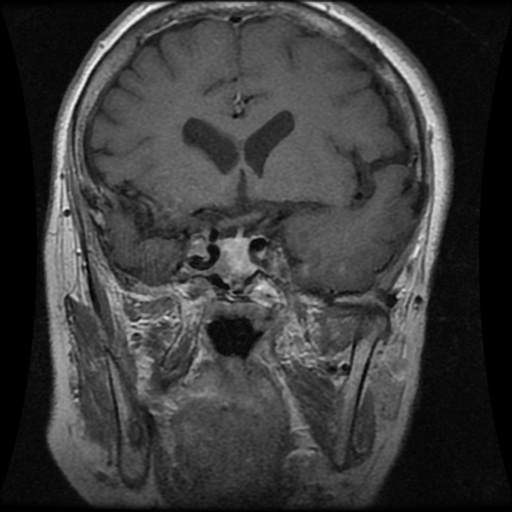pituitary: (212, 233, 259, 289)
